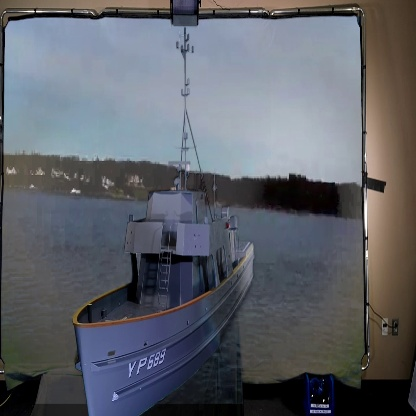YP689: (70, 27, 258, 416)
